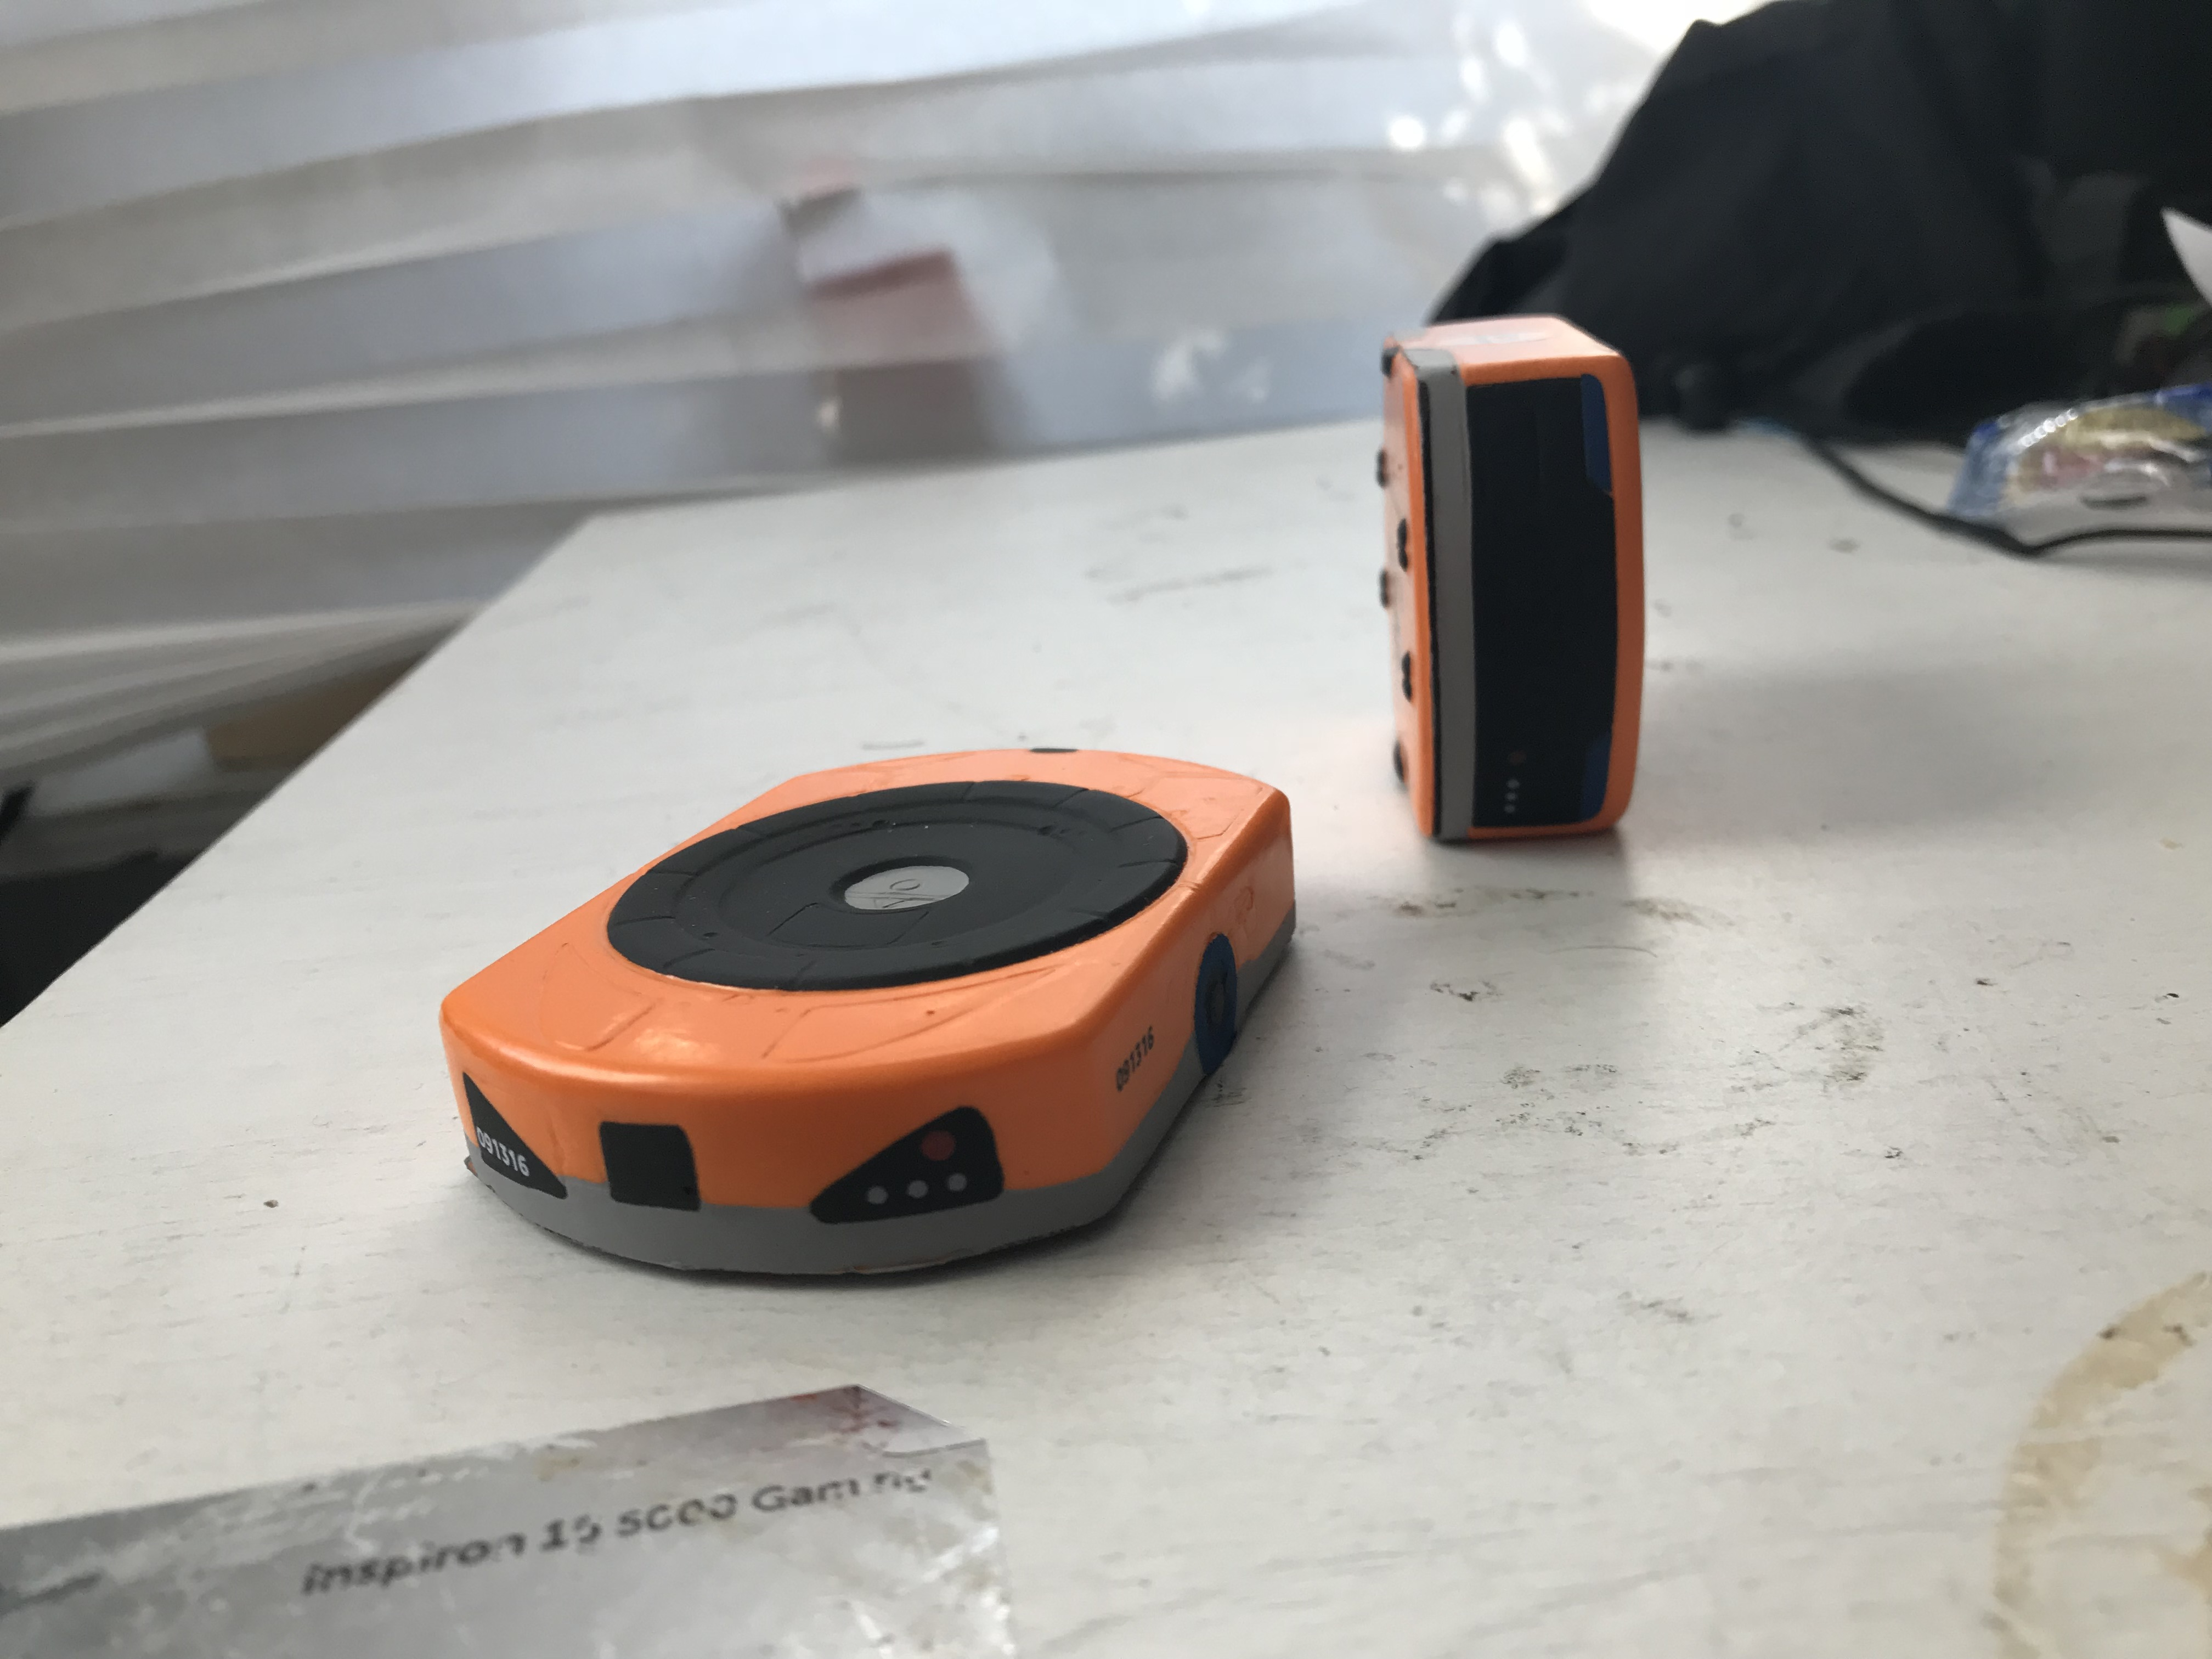amazon_bot: (420, 730, 1312, 1304), (1359, 296, 1656, 859)
